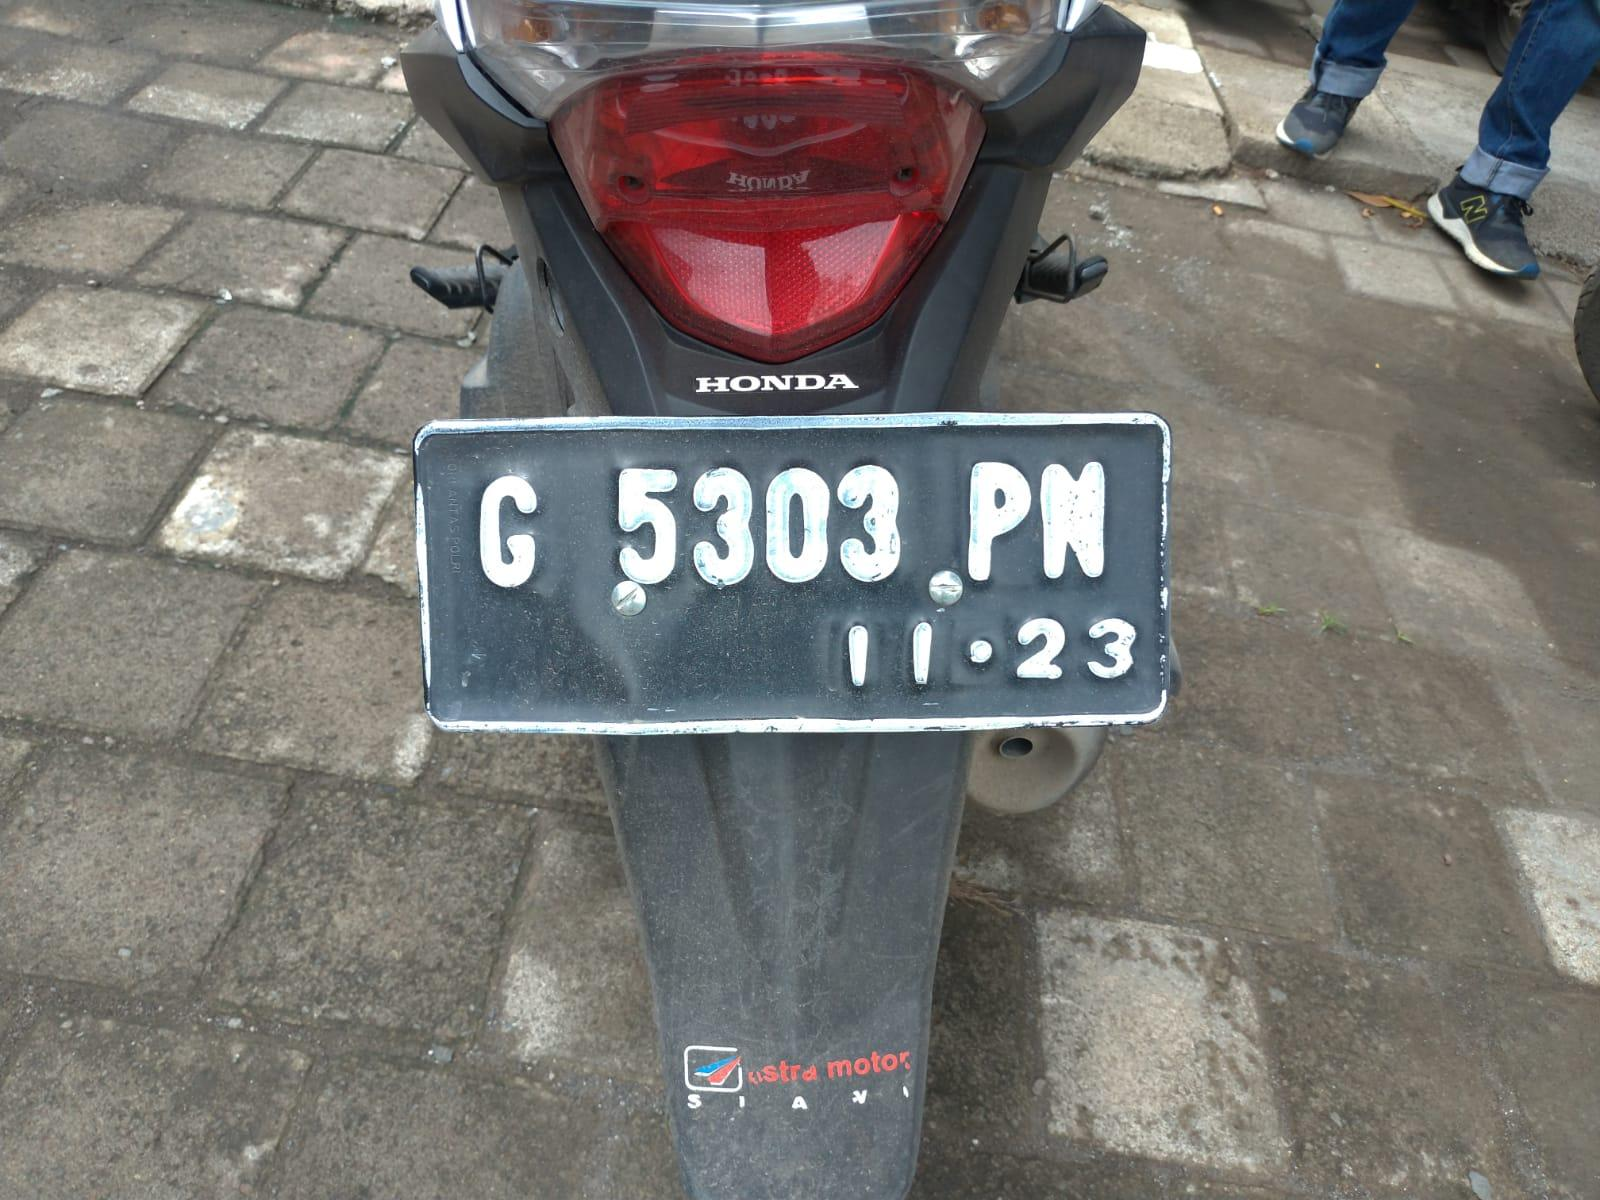plat: (412, 412, 1172, 735)
